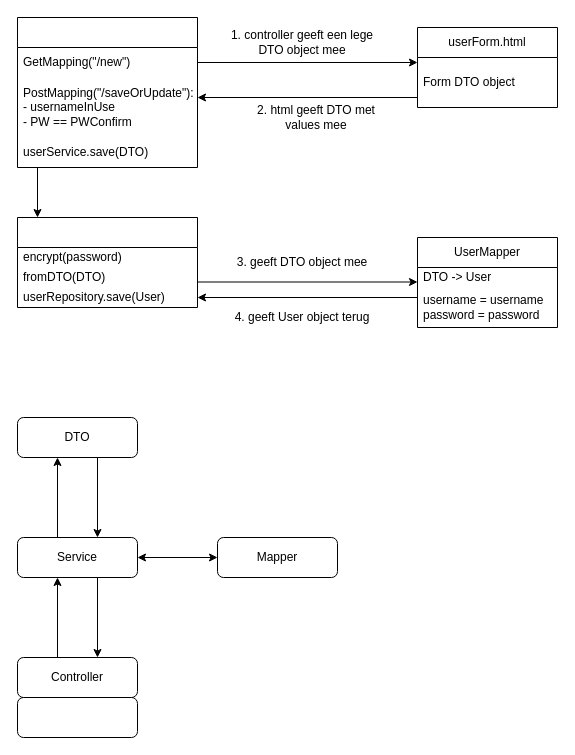
The diagram is 575 pixels wide and 755 high, and some of its shapes have lost their labels. The box of each missing label's shape, as (x1, y1, x2, y2) in pixels:
Model: (16, 696, 138, 738)
UserController: (16, 16, 198, 168)
UserService: (16, 216, 198, 308)
